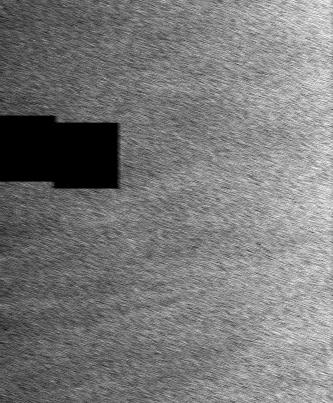Airbag: (0, 0, 332, 403), (331, 0, 333, 403)
